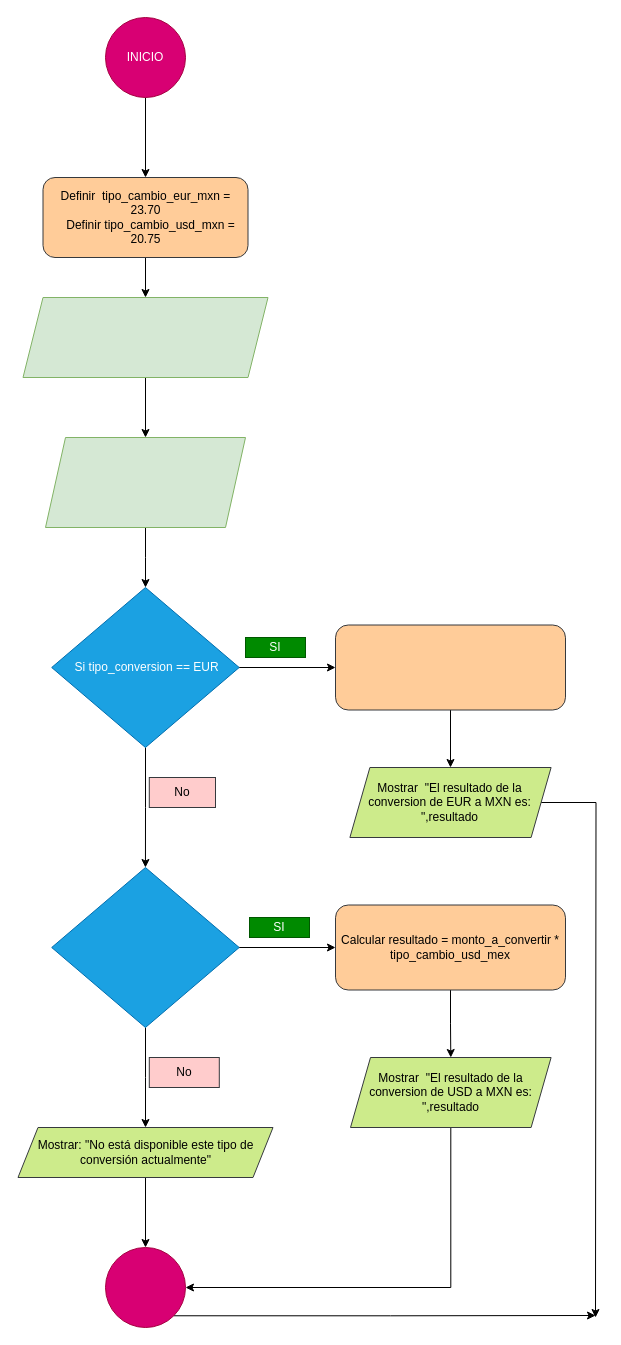
Some shapes in this 621 by 1345 pixel diagram are drawn without their labels. Here are the shapes that lost their labels. From the top down, the centre of each, then its label:
point 145,337: Mostrar mensaje: "Ingrese la moneda de origen para la conversión (EUR/USD):"
point 145,482: Mostrar mensaje: "Ingrese el monto a convertir"
point 450,667: Calcular resultado = monto_a_convertir * tipo_cambio_eur_mex
point 145,947: Si tipo_conversion == USD
point 145,1287: FIN
